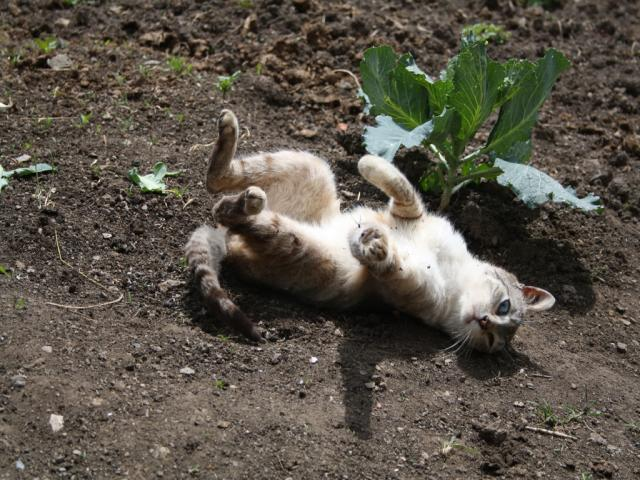Cat: (184, 109, 555, 362)
